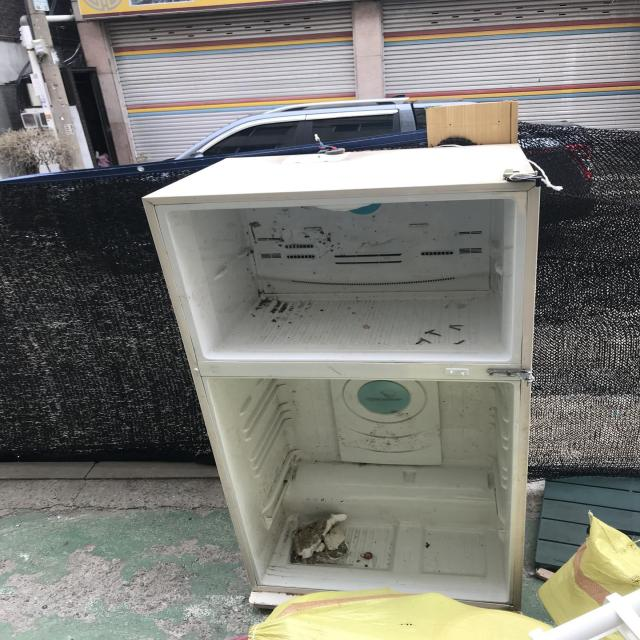refrigerator: (131, 143, 546, 616)
